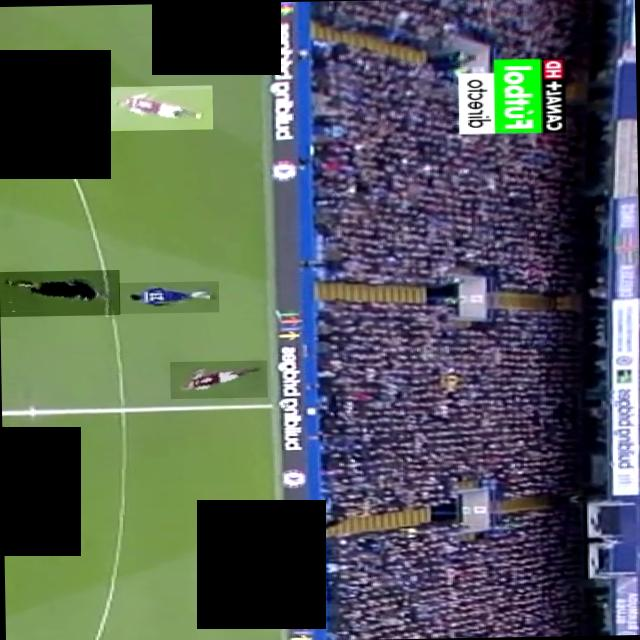referee: (0, 268, 120, 315)
soccer-player: (108, 84, 213, 130), (170, 359, 268, 398), (118, 280, 219, 312), (0, 91, 25, 131)
